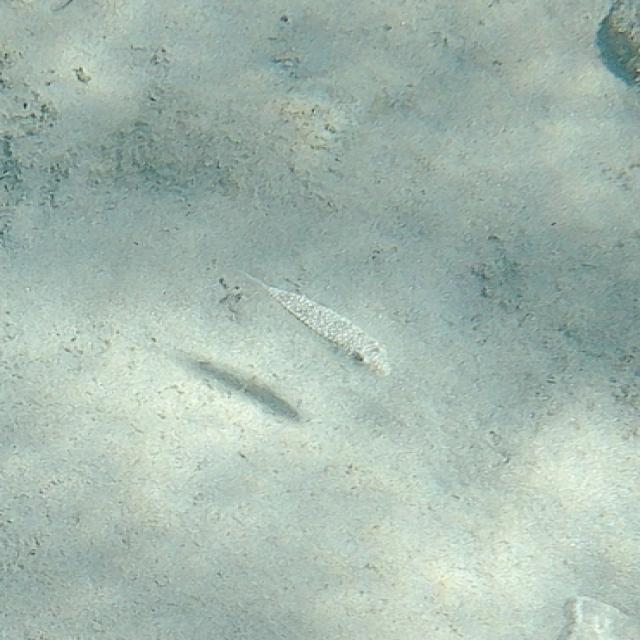Balik: (255, 279, 386, 371)
